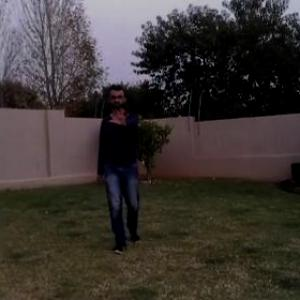follow_hand: (106, 104, 131, 125)
